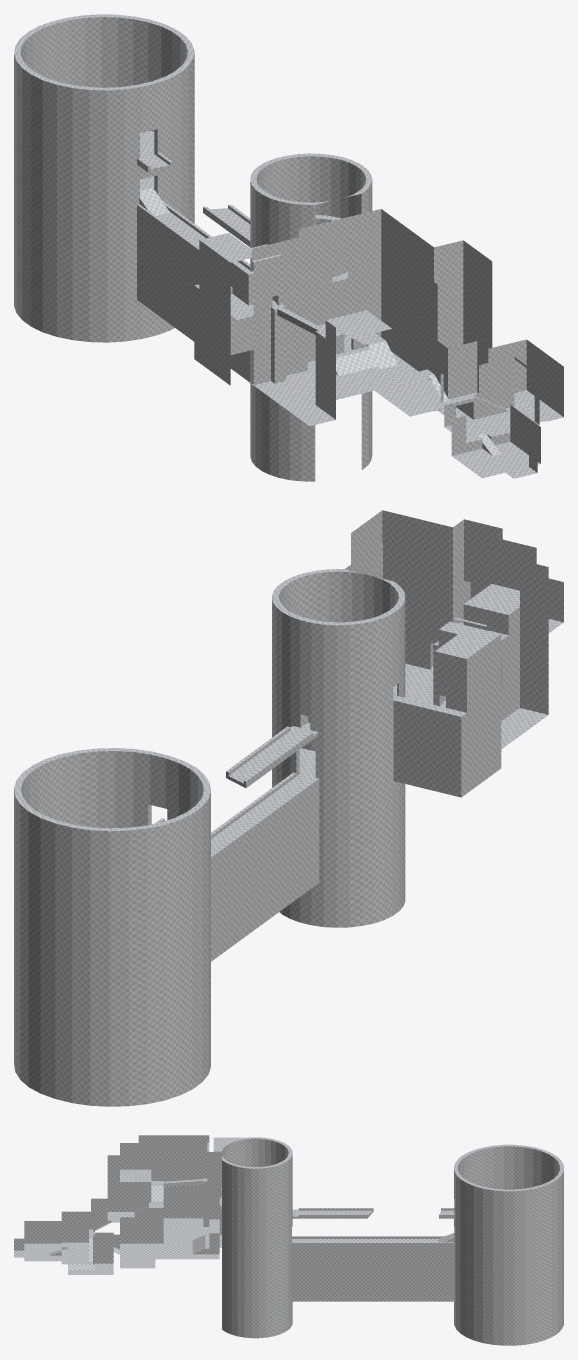
File: painted_world.glb
3 views of the same model, one above another, from view 1: azimuth 30°, elevation 25°; view 2: azimuth 150°, elevation 25°; view 3: azimuth 270°, elevation 25° (orthographic). The views are drawn at different scales.
Parts seen in each view (by area): view 1: LevelGeometry; view 2: LevelGeometry; view 3: LevelGeometry.
Boxes of the visible parts, <box> form: LevelGeometry: <box>14,14,563,481</box>; LevelGeometry: <box>14,510,563,1106</box>; LevelGeometry: <box>14,1135,563,1345</box>.
Bounding box in the file's own units: 73 × 90 × 265.
Materials: 1 (1 with a texture image).
